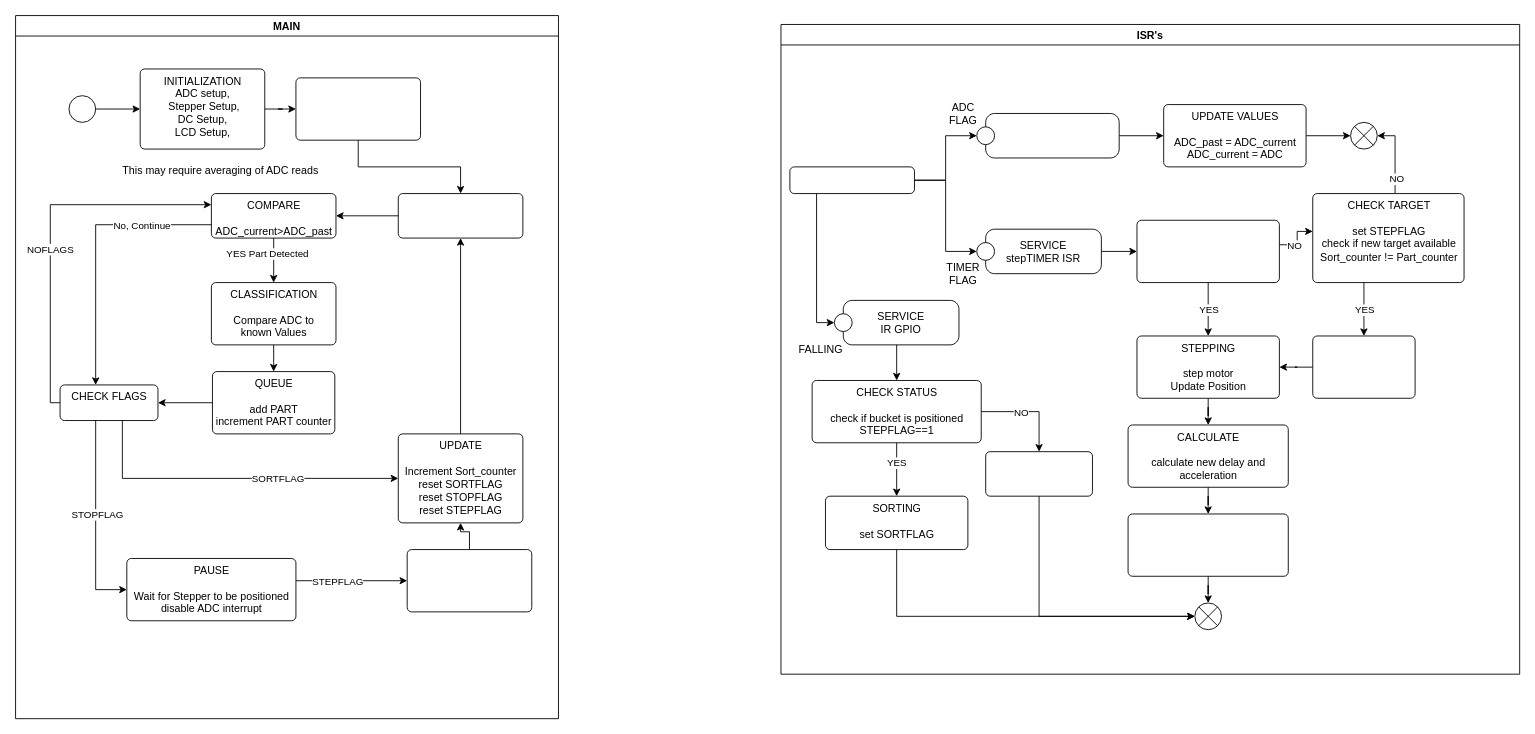
This 1535x734 diagram has some shape labels left out. The shapes that lost their labels are listed below. From the top down, each one's box as (x1, y1, x2, y2) in pixels, then its label:
(295, 77, 421, 140): CALIBRATION Calibrate Stepper with hall sensor
(976, 113, 1119, 158): SERVICE ADC Conv. Complete
(789, 166, 914, 194): INTERRUPT
(397, 193, 523, 238): RUN MOTOR set DC to run
(1136, 219, 1279, 283): CHECK STEP check if step is needed TARGET != POSITION
(1312, 335, 1415, 398): SET TARGET Update Target
(985, 451, 1092, 496): STOP MOTOR set STOPFLAG
(1127, 513, 1288, 576): UPDATE Set new delay update counters and flags
(406, 549, 532, 612): RESUME enable interrupts restart motor
